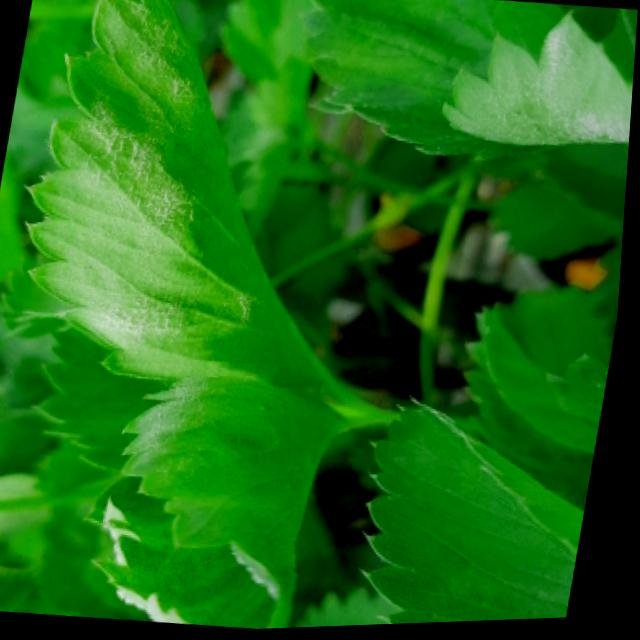Powdery Mildew Leaf: (24, 0, 375, 474), (89, 375, 357, 631), (296, 0, 634, 159)
